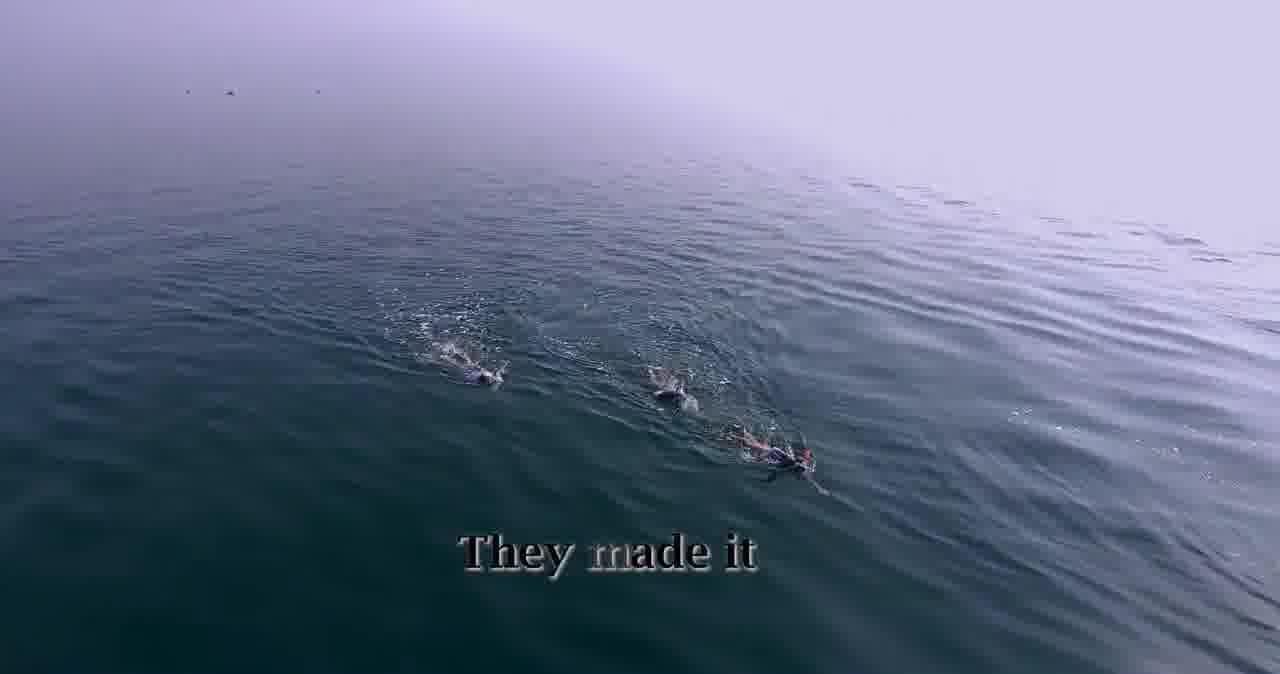human: (735, 431, 820, 480)
